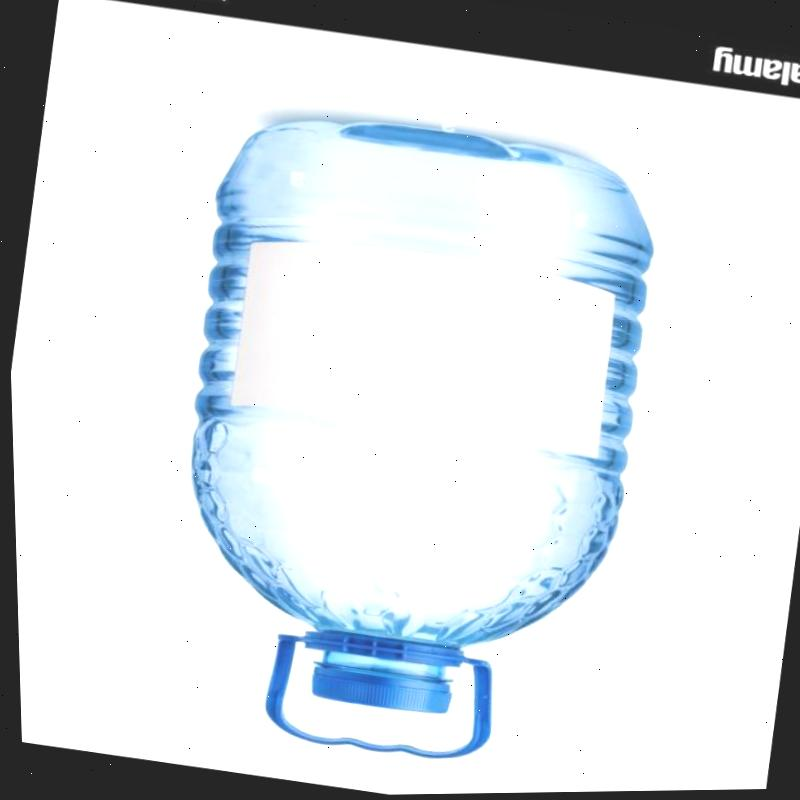botella: (133, 95, 676, 747)
